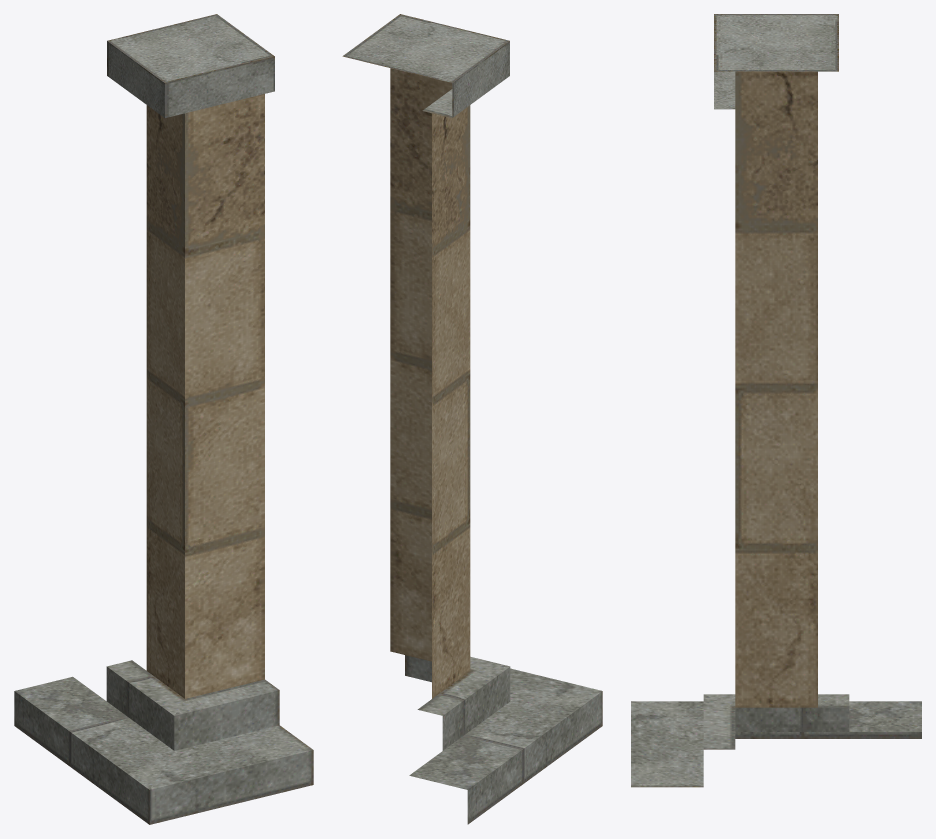
The model's file is arch_cnr_L.fbx.
3 views of the same model, side by side, from view 1: azimuth 30°, elevation 25°; view 2: azimuth 150°, elevation 25°; view 3: azimuth 270°, elevation 25° (orthographic). The views are drawn at different scales.
Parts seen in each view (by area): view 1: arch_cnr_L; view 2: arch_cnr_L; view 3: arch_cnr_L.
Part boxes in pixels (box(x1,y1,x2,y2)): arch_cnr_L: box(14, 14, 313, 824); arch_cnr_L: box(342, 14, 602, 824); arch_cnr_L: box(631, 14, 921, 787).
Size of the model in its own units: 49 by 200 by 70.
